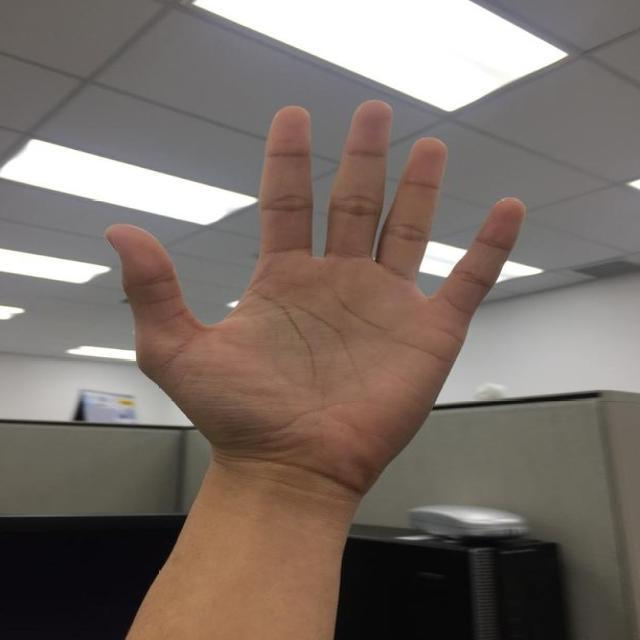hand: (104, 100, 528, 486)
